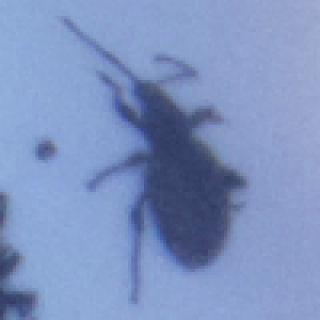bvw: (60, 16, 248, 306)
